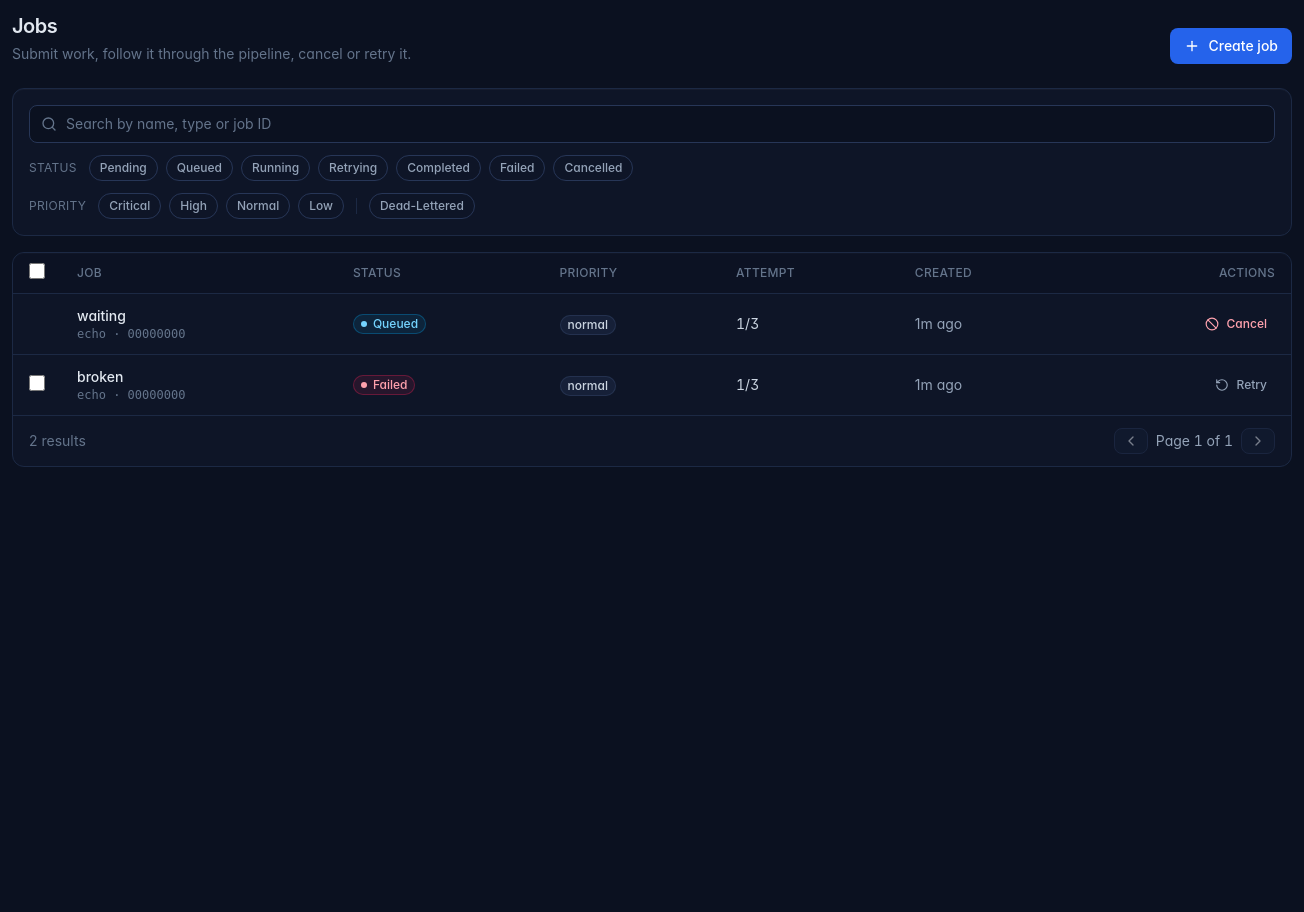
Test: <JobsPage> › cancels an eligible job and retries a failed one
What coordinates should you click on to do the following:
click the button with aria-label "Cancel waiting"
I would click on:
 (1236, 324)
Its box is [1197, 312, 1275, 336].
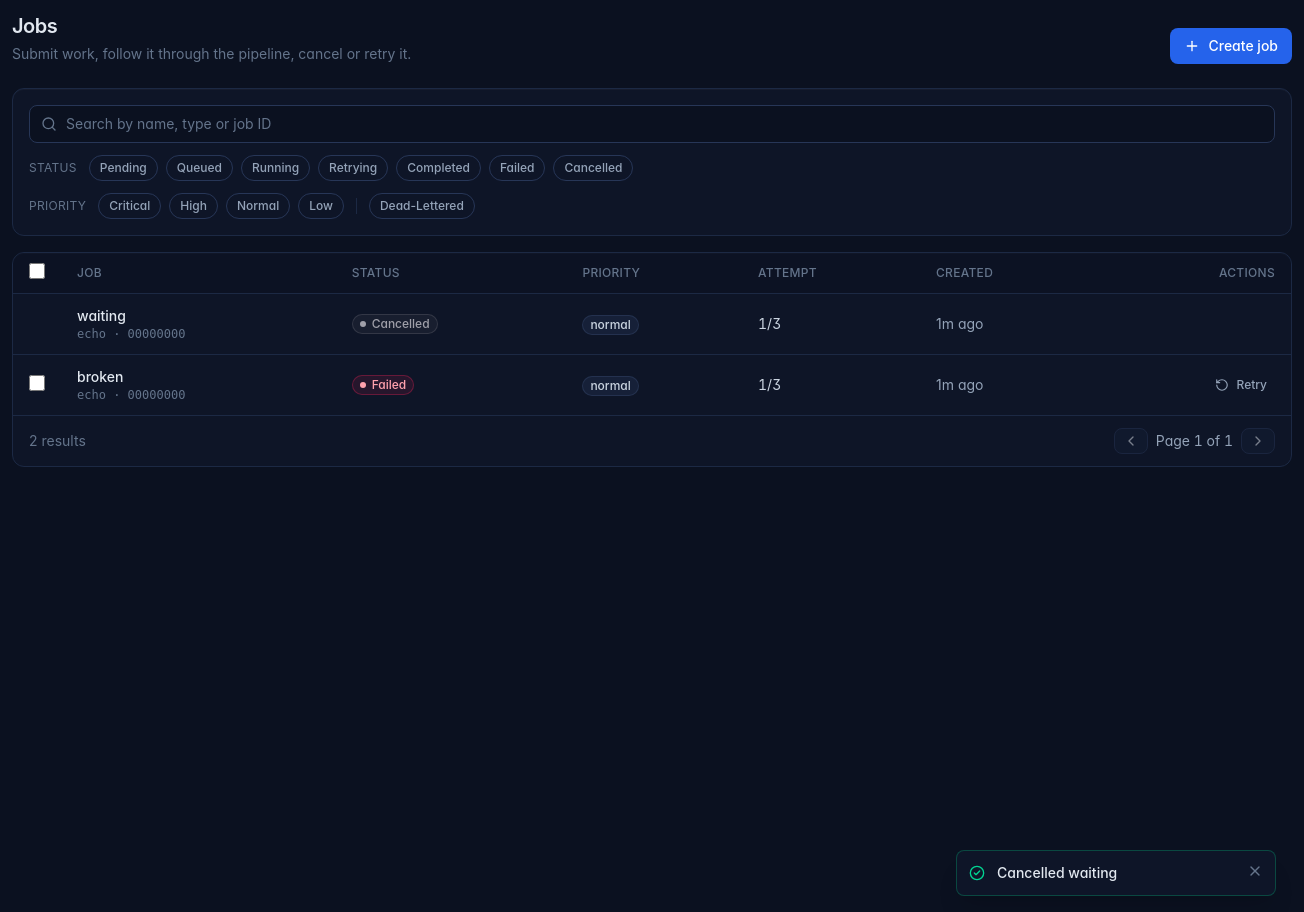
Now the text "Cancelled waiting" is shown, box [997, 864, 1117, 881]
What coordinates should you click on to do the following:
click the button with aria-label "Retry broken"
I would click on:
 (1241, 385)
Its box is [1206, 373, 1275, 397].
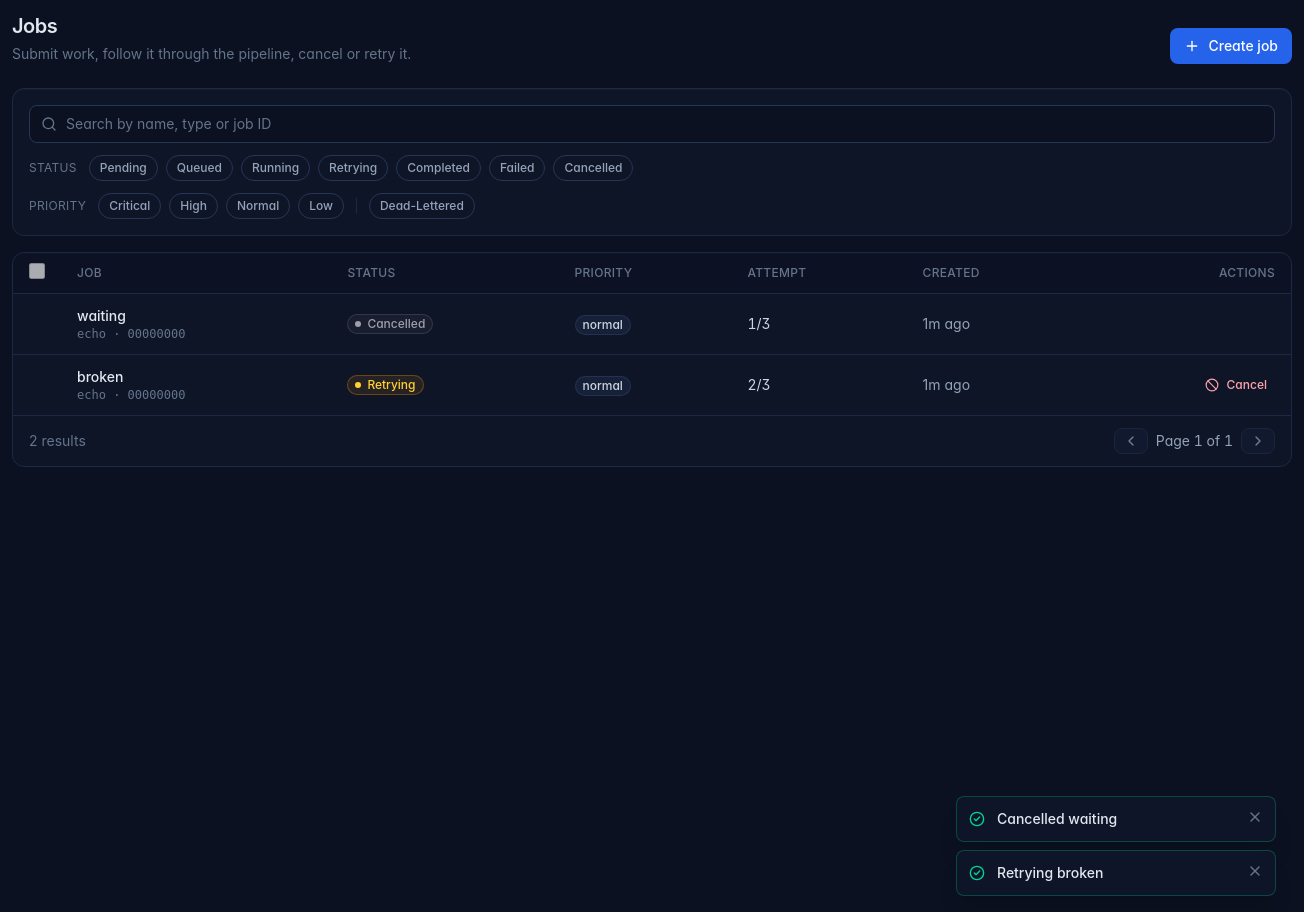
Now the text "Retrying broken" is shown, box [997, 864, 1103, 881]
